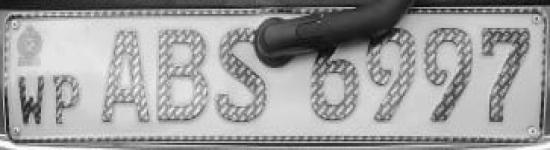6: (309, 31, 365, 130)
7: (479, 20, 534, 128)
9: (366, 19, 421, 128), (421, 21, 476, 128)
A: (97, 24, 153, 132)
B: (151, 22, 211, 126)
P: (50, 70, 86, 130)
S: (213, 21, 275, 128)
W: (15, 70, 48, 130)
